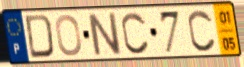7: (157, 10, 183, 55)
C: (186, 8, 218, 54), (120, 10, 151, 56)
D: (24, 13, 57, 61)
N: (86, 11, 124, 58)
O: (54, 13, 84, 58)
